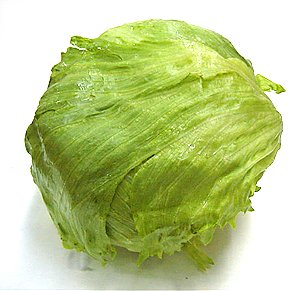cabbage: (24, 16, 287, 269)
